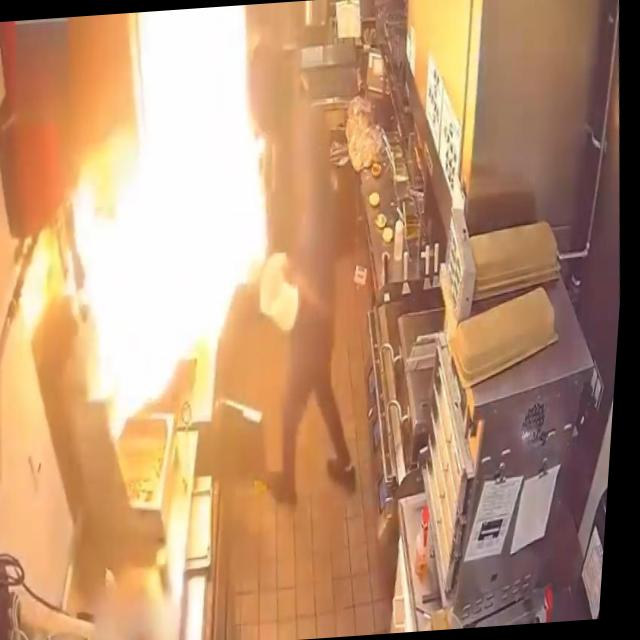fire: (40, 2, 310, 472)
